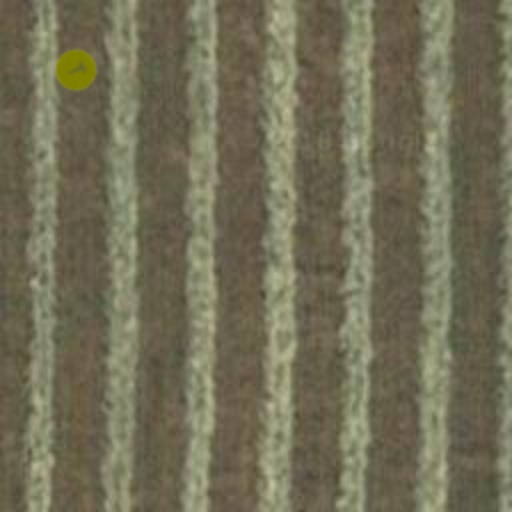circle: (48, 42, 104, 98)
